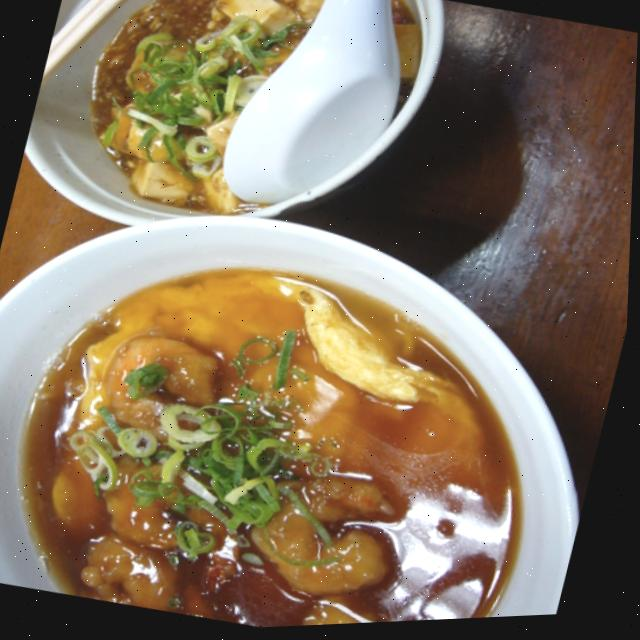面条主食: (0, 192, 604, 640)
